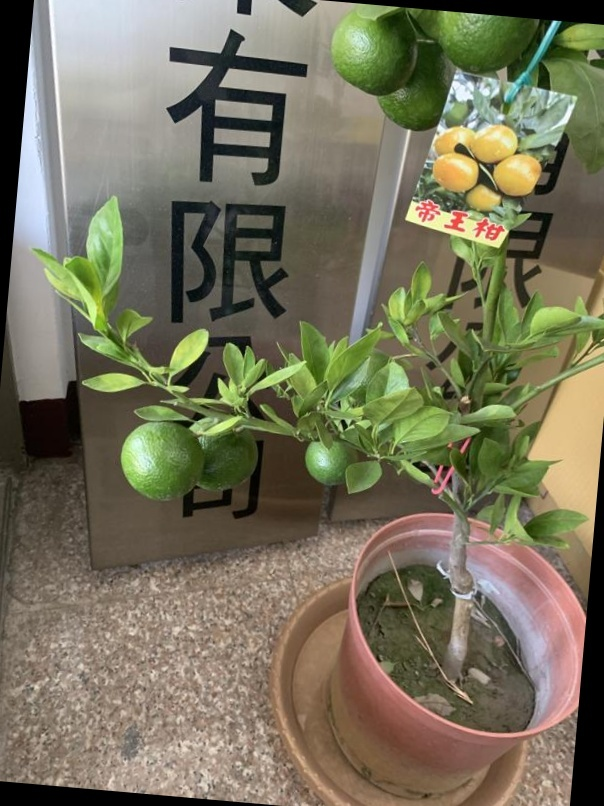Tangerine: (121, 406, 203, 507), (333, 9, 419, 99), (434, 10, 539, 80), (380, 50, 456, 140), (192, 415, 259, 492), (303, 430, 356, 488)
